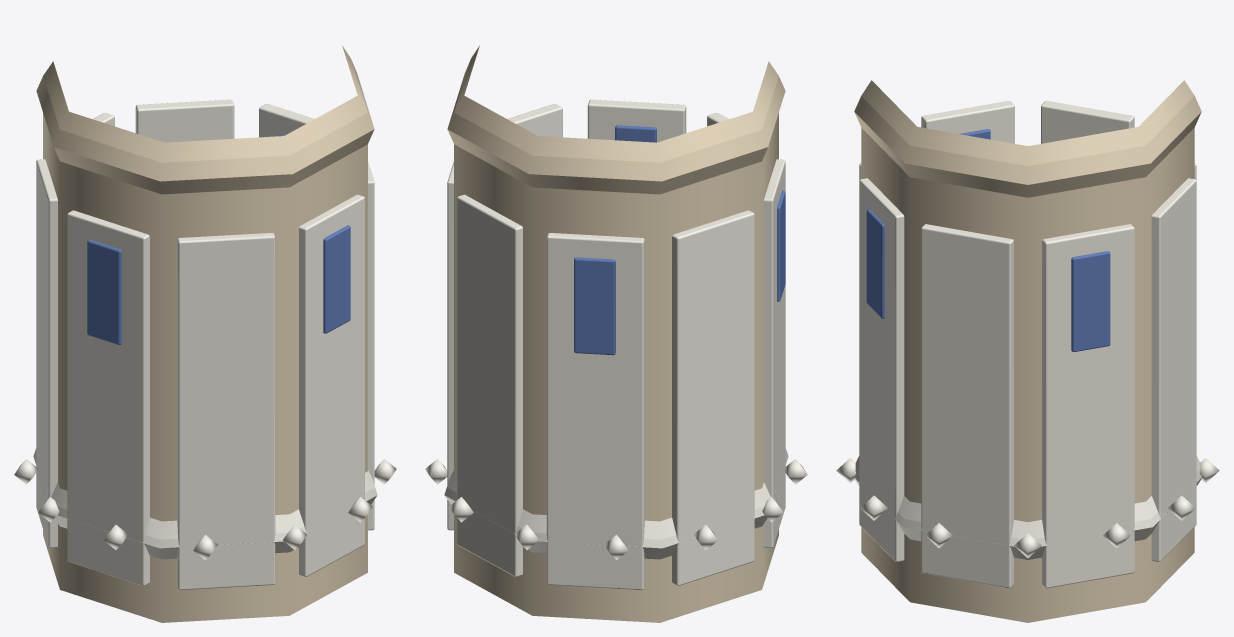
File: minaret-shaft-sect-cb0ca1a2.glb
The picture shows the model from 3 angles, left to right: view 1: azimuth 30°, elevation 25°; view 2: azimuth 150°, elevation 25°; view 3: azimuth 270°, elevation 25°; orthographic projection.
Visible parts, largest first — view 1: minaret-shaft-section; view 2: minaret-shaft-section; view 3: minaret-shaft-section.
Part boxes in pixels (x1,y1,x2,y2): minaret-shaft-section: (14,45,396,622); minaret-shaft-section: (425,45,807,622); minaret-shaft-section: (836,80,1219,622).
Size of the model in its own units: 2.21 by 3 by 2.21.
